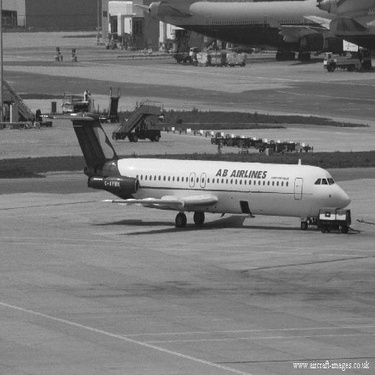airplane: (34, 96, 365, 248), (114, 2, 371, 69)
